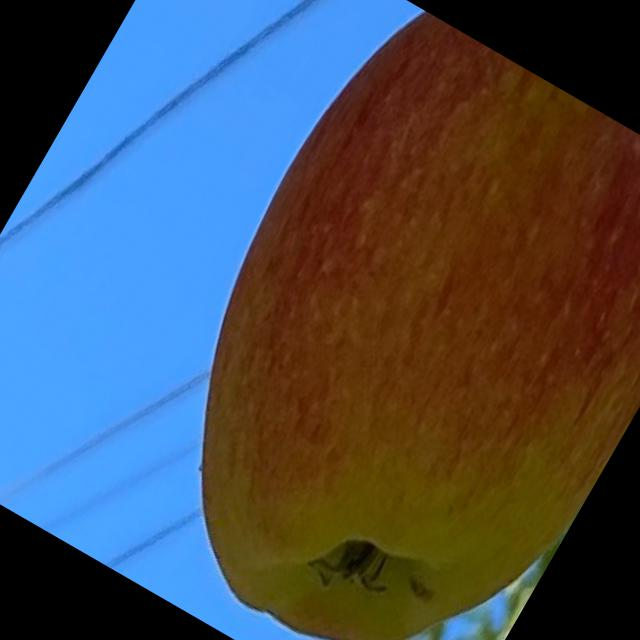Apples: (85, 0, 639, 639)
